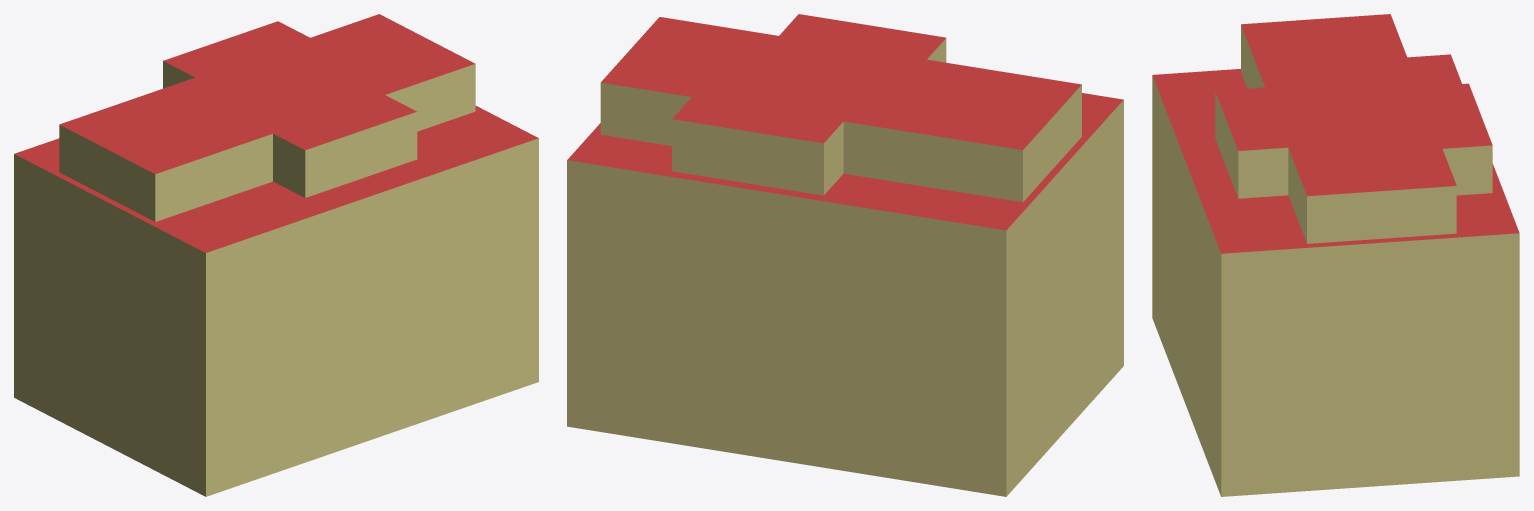
3 views of the same model, side by side, from view 1: azimuth 30°, elevation 25°; view 2: azimuth 150°, elevation 25°; view 3: azimuth 270°, elevation 25° (orthographic). The views are drawn at different scales.
Bounding box in the file's own units: 26.76 × 20.84 × 18.21.
